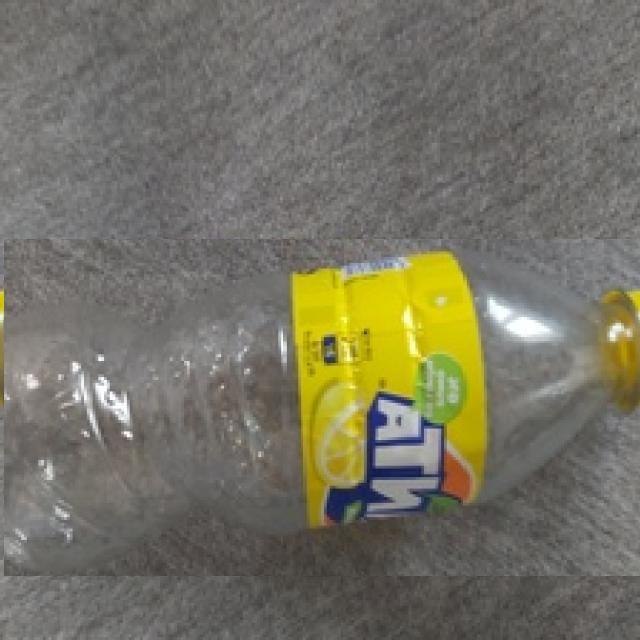good: (4, 240, 640, 577)
